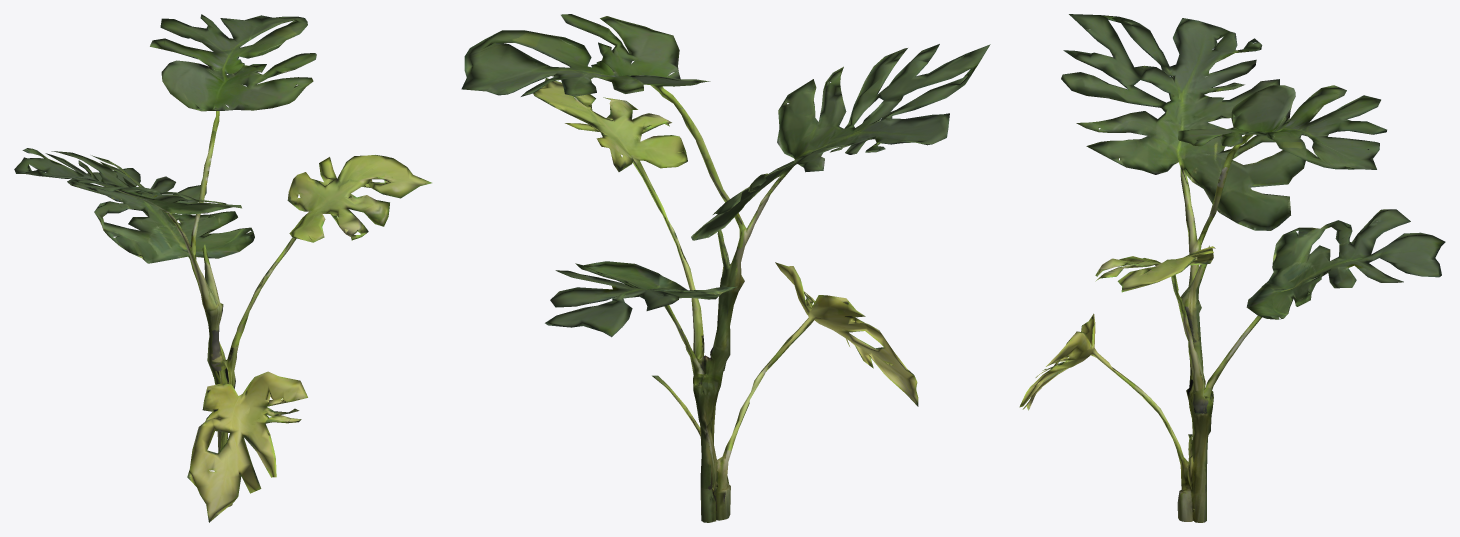
3 views of the same model, side by side, from view 1: azimuth 30°, elevation 25°; view 2: azimuth 150°, elevation 25°; view 3: azimuth 270°, elevation 25° (orthographic). The views are drawn at different scales.
Parts seen in each view (by area): view 1: Mesh_0.009; view 2: Mesh_0.009; view 3: Mesh_0.009.
Part boxes in pixels (x1=…): Mesh_0.009: x1=14, y1=14, x2=431, y2=522; Mesh_0.009: x1=461, y1=14, x2=990, y2=522; Mesh_0.009: x1=1019, y1=14, x2=1445, y2=522.
Bounding box in the file's own units: 1.45 × 1.52 × 1.35.
Materials: 1 (1 with a texture image).
